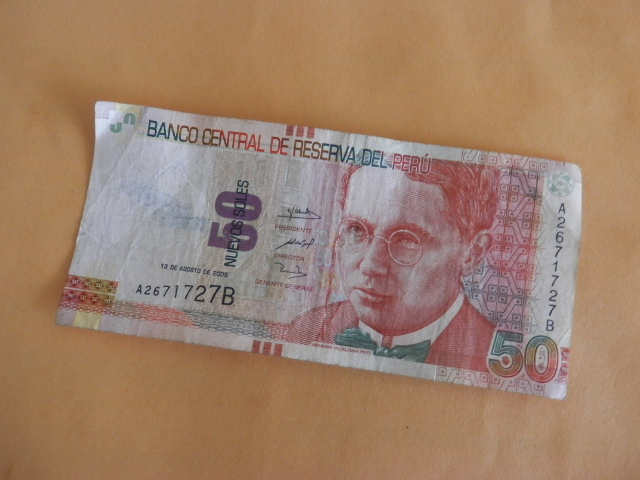B50: (67, 96, 588, 407)
